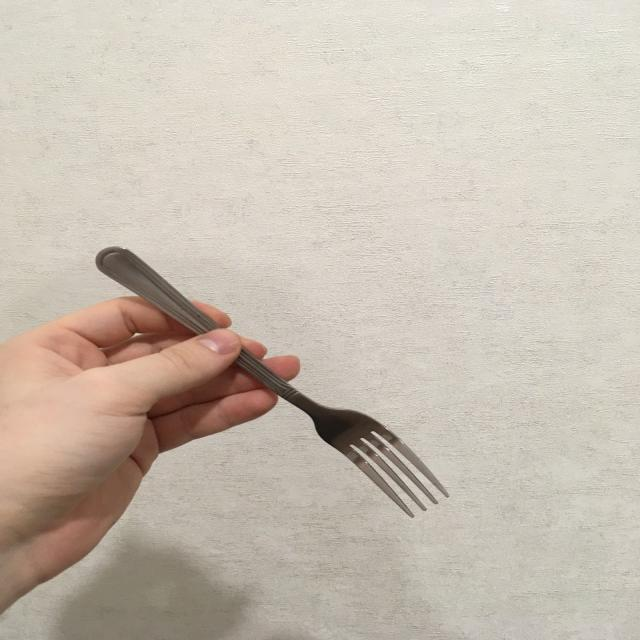fork: (97, 248, 450, 520)
